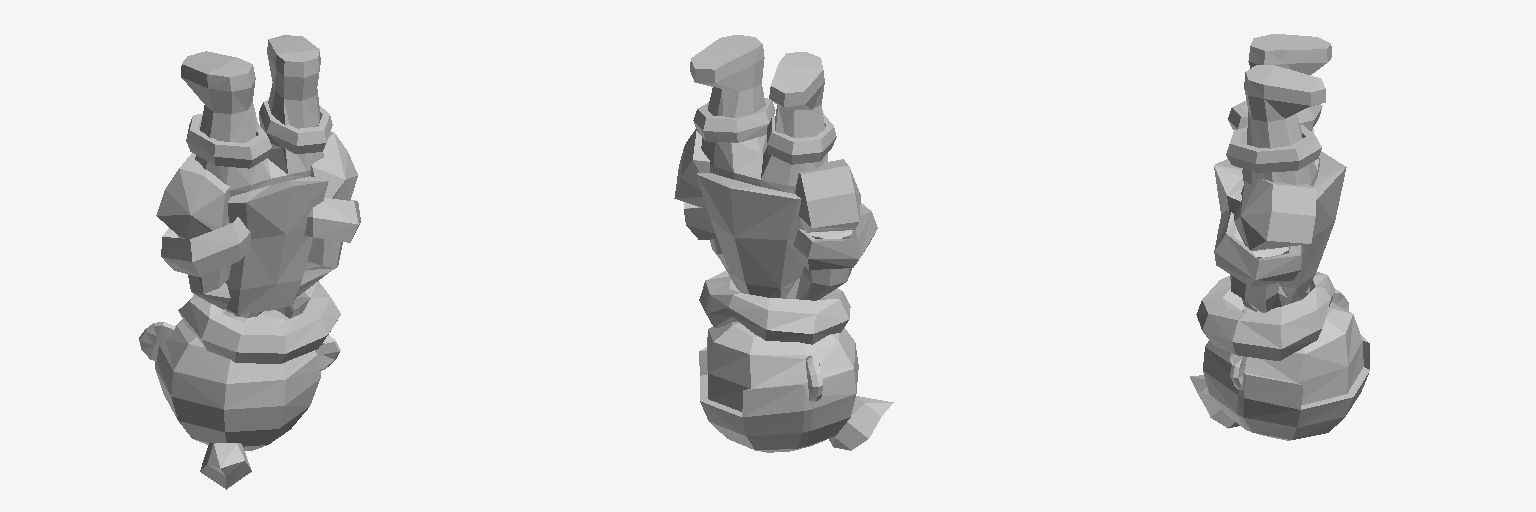
Rendered from eikastanding_000132.obj.
The picture shows the model from 3 angles: view 1: azimuth 30°, elevation 25°; view 2: azimuth 150°, elevation 25°; view 3: azimuth 270°, elevation 25°; orthographic projection.
Parts seen in each view (by area): view 1: Cylinder; view 2: Cylinder; view 3: Cylinder.
Part boxes in pixels (x1,y1,x2,y2): Cylinder: (139, 35, 360, 489); Cylinder: (674, 35, 893, 452); Cylinder: (1190, 34, 1369, 440).
Bounding box in the file's own units: 26.75 × 53.36 × 21.89.